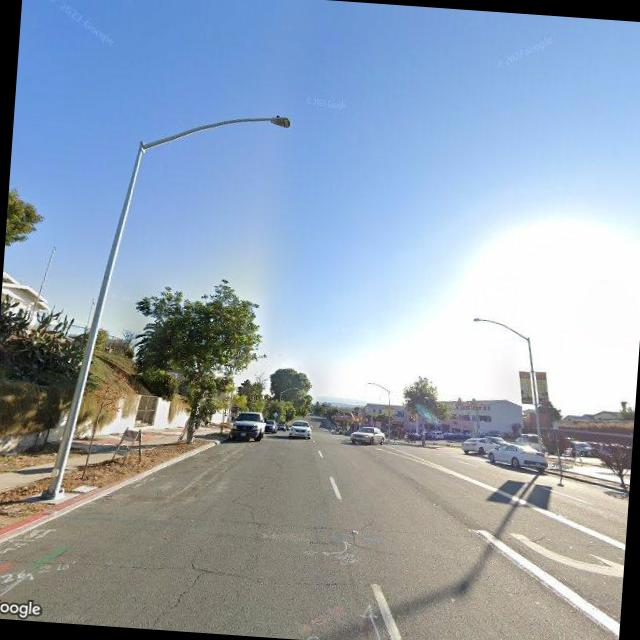pothole: (136, 561, 204, 631)
